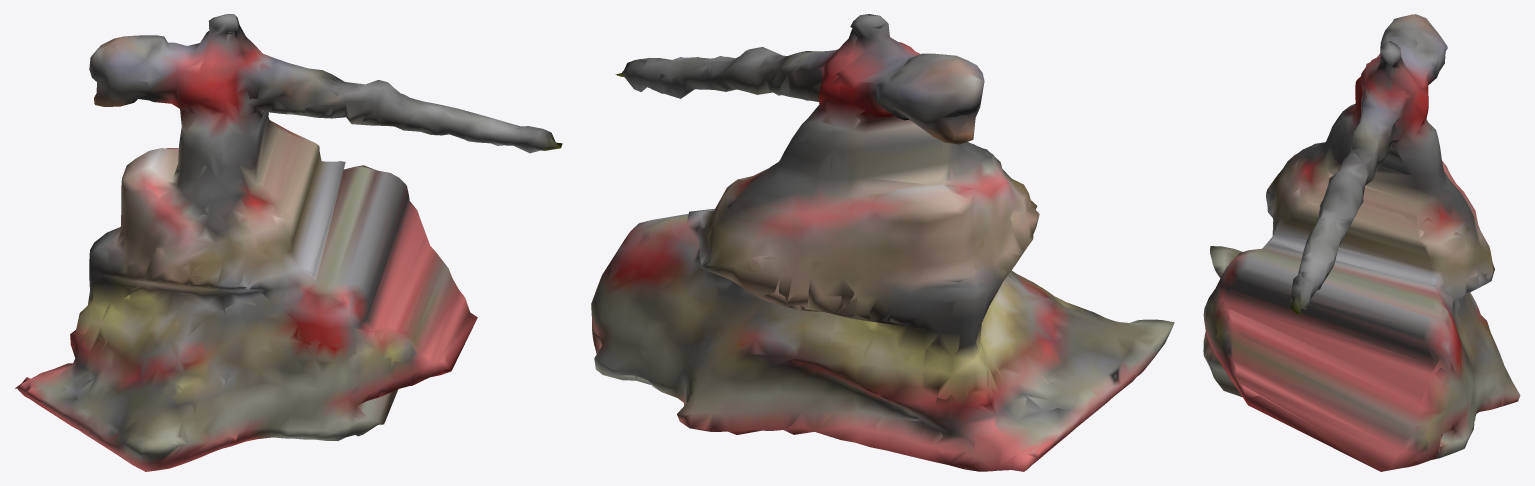
File: soviet_service_depot.glb
3 views of the same model, side by side, from view 1: azimuth 30°, elevation 25°; view 2: azimuth 150°, elevation 25°; view 3: azimuth 270°, elevation 25° (orthographic). The views are drawn at different scales.
Parts seen in each view (by area): view 1: soviet_service_depot; view 2: soviet_service_depot; view 3: soviet_service_depot.
Part boxes in pixels (x1=…): soviet_service_depot: x1=15, y1=14, x2=562, y2=471; soviet_service_depot: x1=591, y1=14, x2=1174, y2=471; soviet_service_depot: x1=1203, y1=14, x2=1520, y2=471.
Bounding box in the file's own units: 2.1 × 1.54 × 1.38.
